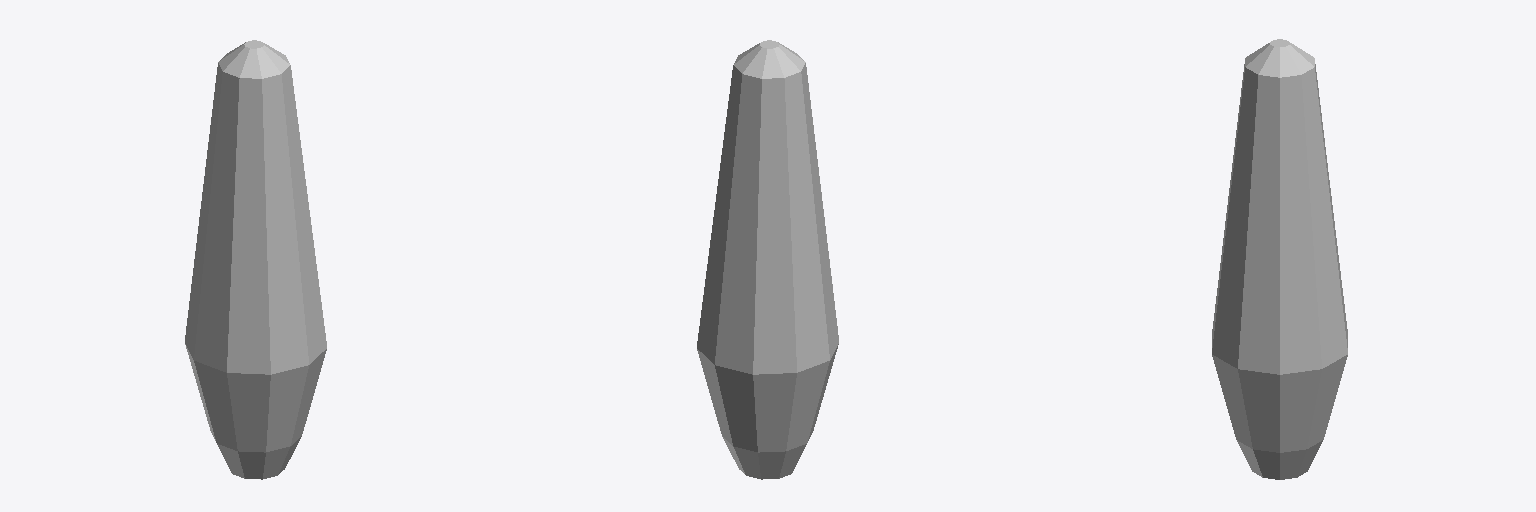
File: bowlingpincollider.obj
3 views of the same model, side by side, from view 1: azimuth 30°, elevation 25°; view 2: azimuth 150°, elevation 25°; view 3: azimuth 270°, elevation 25° (orthographic).
Visible parts, largest first — view 1: Pin_Mesh; view 2: Pin_Mesh; view 3: Pin_Mesh.
Boxes of the visible parts, x1,y1,x2,y2 form: Pin_Mesh: [185, 40, 326, 479]; Pin_Mesh: [697, 40, 838, 479]; Pin_Mesh: [1212, 39, 1347, 479].
Size of the model in its own units: 0.4794 by 1.56 by 0.4559.